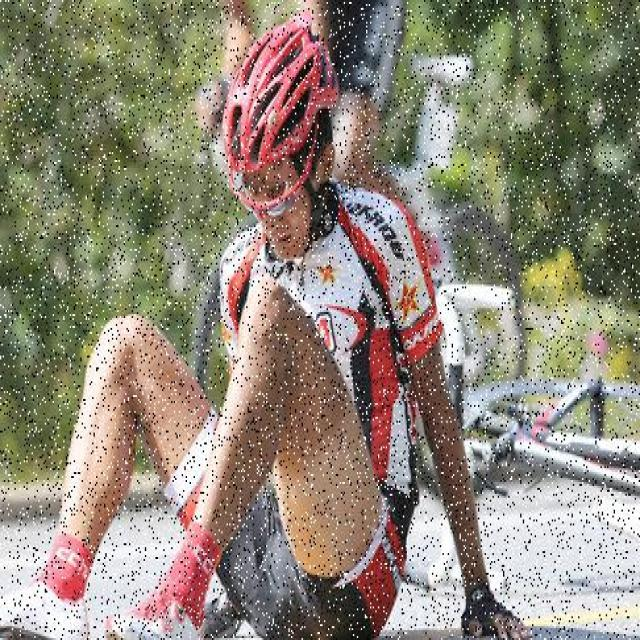fall: (56, 54, 512, 626)
